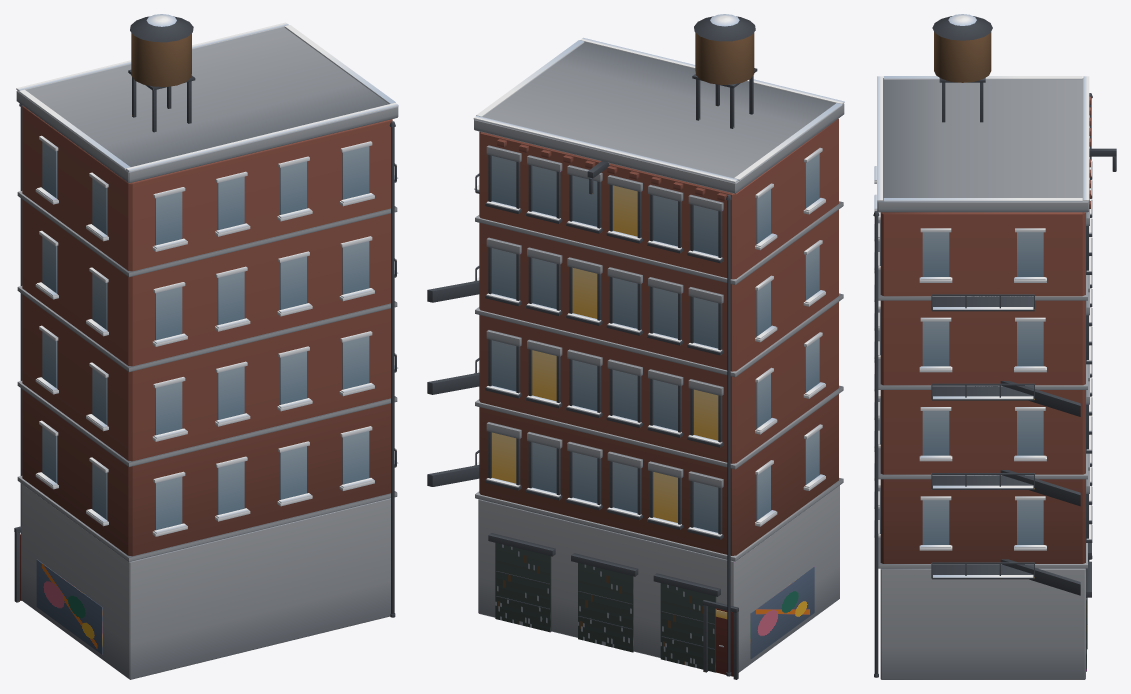
The model's file is ck_midrise_brick_8.fbx.
3 renders of one model, left to right at view 1: azimuth 30°, elevation 25°; view 2: azimuth 150°, elevation 25°; view 3: azimuth 270°, elevation 25°, orthographic. The views are drawn at different scales.
Visible parts, largest first — view 1: ck_midrise_brick_8; view 2: ck_midrise_brick_8; view 3: ck_midrise_brick_8.
Boxes of the visible parts, x1,y1,x2,y2 form: ck_midrise_brick_8: (14,14,398,679); ck_midrise_brick_8: (427,14,844,679); ck_midrise_brick_8: (873,14,1116,679).
Size of the model in its own units: 3332 by 6000 by 2295.
